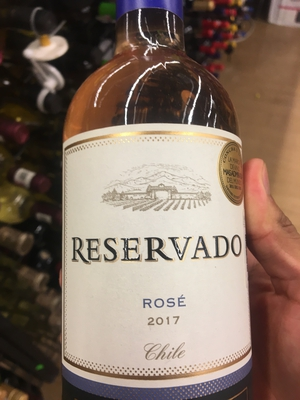reservado rose: (56, 24, 246, 400)
